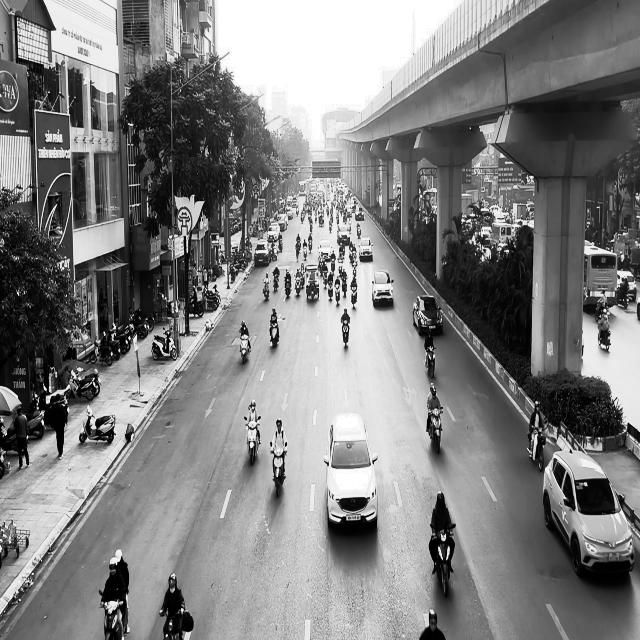bus: (583, 241, 618, 311)
car: (542, 449, 635, 578), (324, 411, 378, 529), (412, 294, 443, 336), (371, 270, 394, 306), (359, 237, 373, 261)
motorbike: (430, 522, 456, 596), (79, 404, 116, 445), (98, 588, 127, 640), (526, 420, 548, 472), (160, 606, 186, 640), (243, 416, 261, 465), (270, 446, 287, 497), (151, 327, 177, 360), (426, 406, 443, 454), (596, 306, 611, 351), (424, 344, 435, 378), (239, 333, 251, 363), (269, 319, 279, 348), (341, 319, 350, 348), (262, 279, 270, 300)
